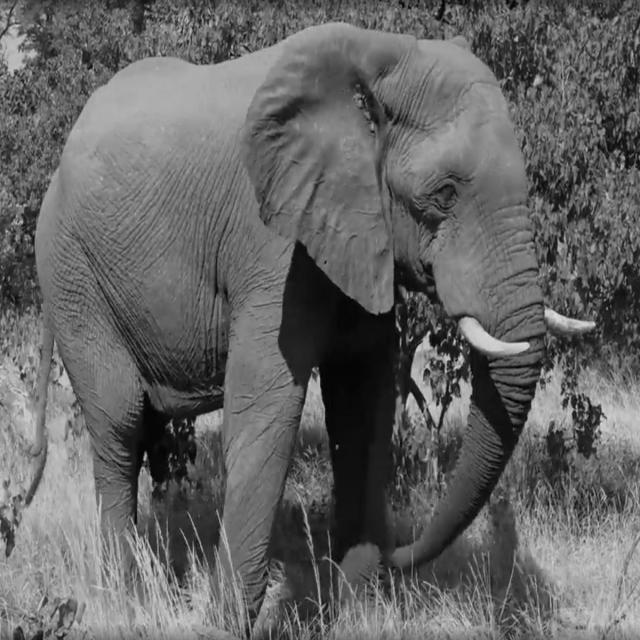Elephant: (15, 21, 595, 634)
